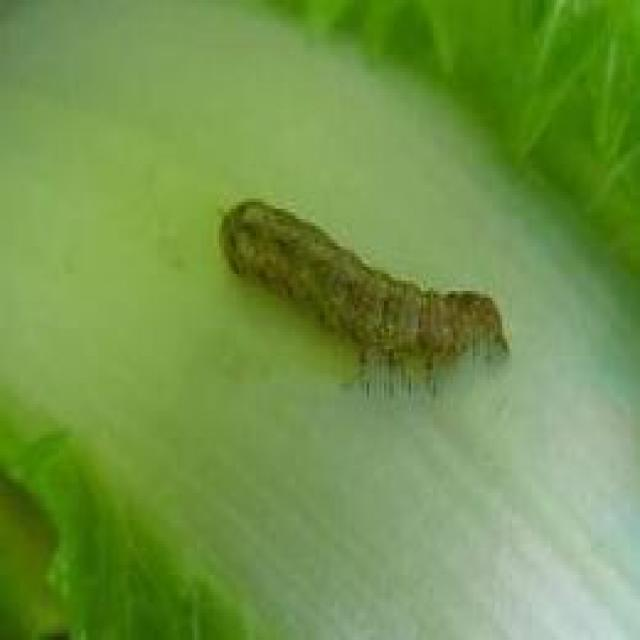armyworm: (216, 181, 517, 408)
